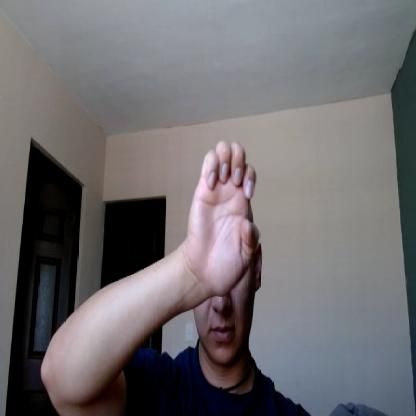E: (187, 141, 258, 290)
